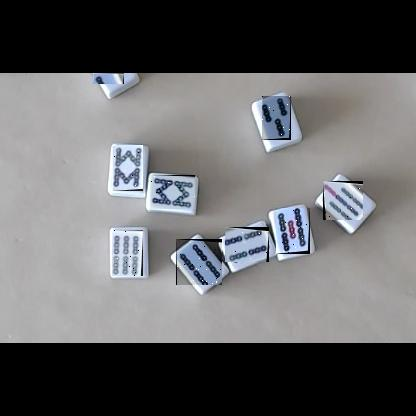3s: (262, 96, 291, 140), (93, 73, 124, 84)
4s: (176, 239, 222, 285), (225, 227, 269, 262)
5s: (276, 208, 310, 254)
6s: (112, 230, 143, 276)
7s: (323, 181, 363, 220)
8s: (150, 175, 195, 209), (112, 145, 143, 191)
